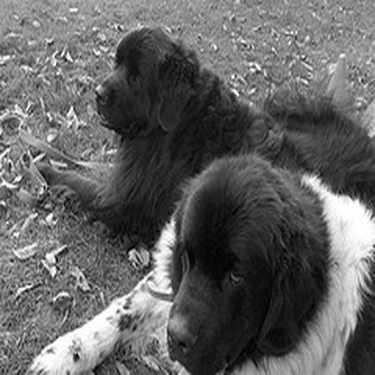dog: (13, 145, 372, 371), (30, 18, 371, 246)
